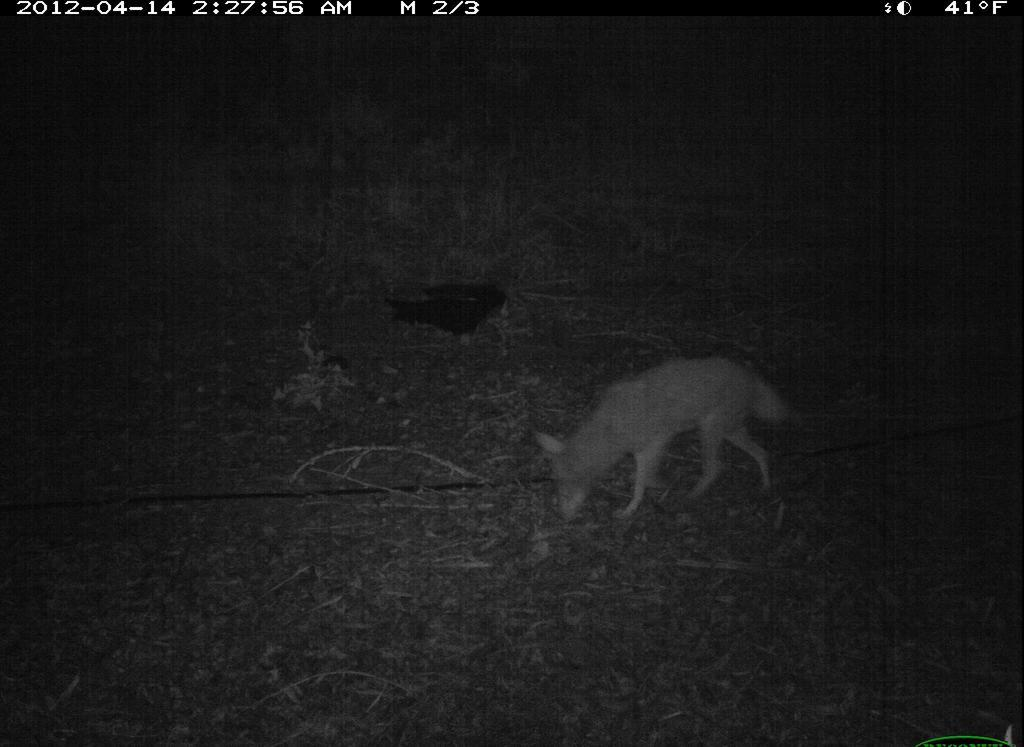coyote: (520, 350, 797, 536)
